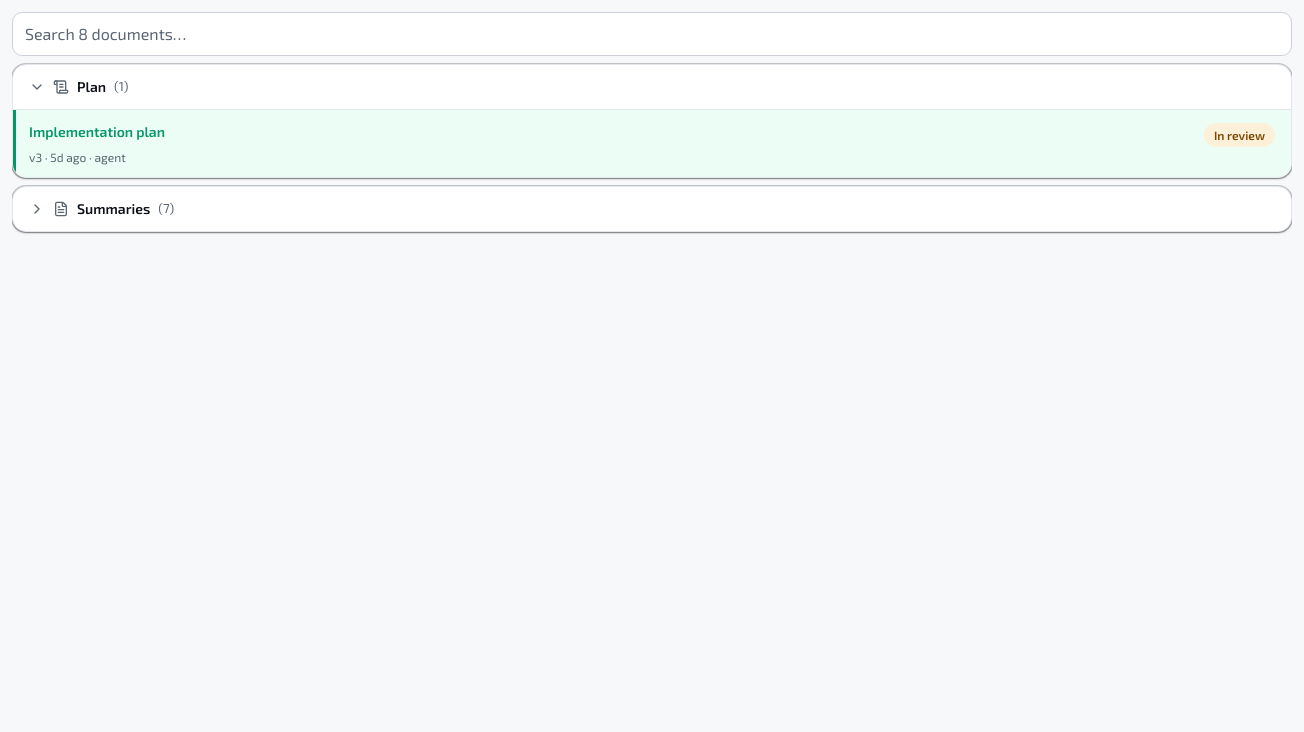
Test case: DocumentList › collapses a large section by default and reveals its rows when expanded
This screenshot has width=1304, height=732.
Expected: the link "Summary 3" is not shown
Expected: the link "Implementation plan In review v3 · 5d ago · agent" is shown, [13,110,1291,177]
Click the button "Summaries (7)": (114, 208) [13,187,1291,231]
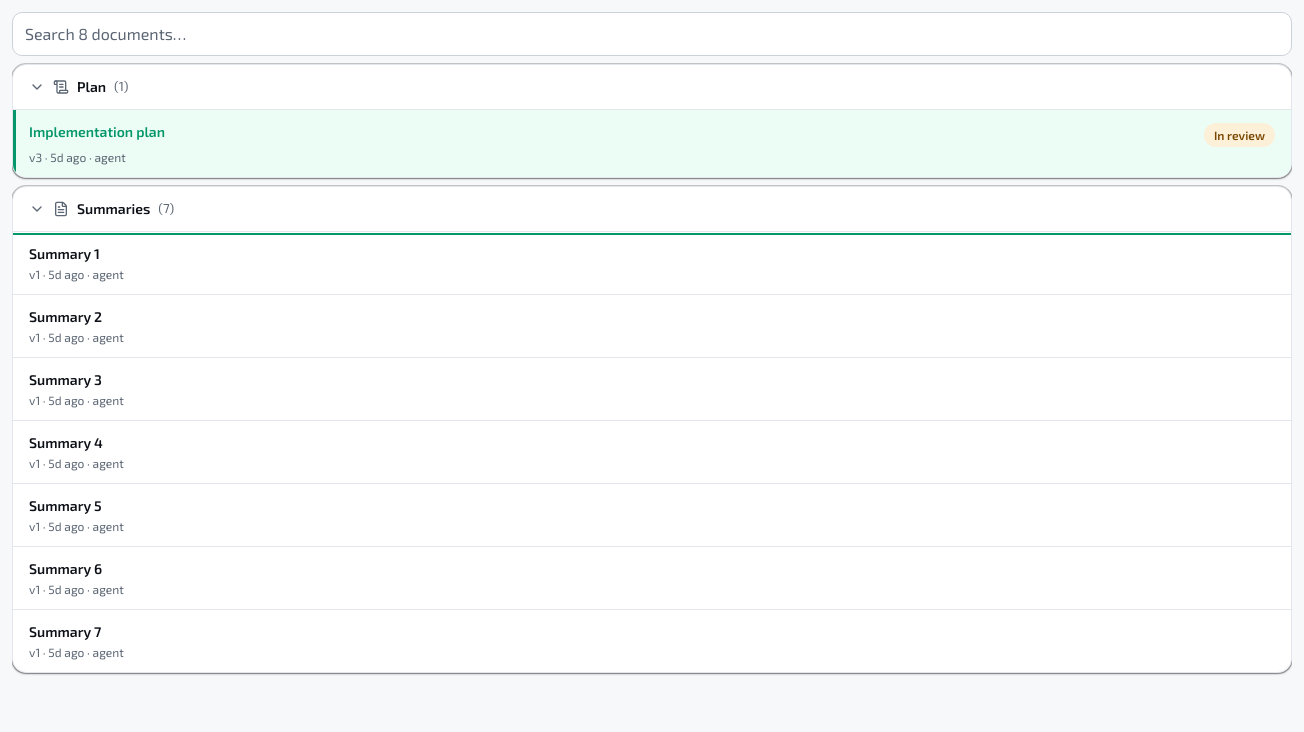
Now the button "Summaries (7)" is expanded, box [13,187,1291,231]
Now the link "Summary 3 v1 · 5d ago · agent" is shown, box [29,371,124,407]
